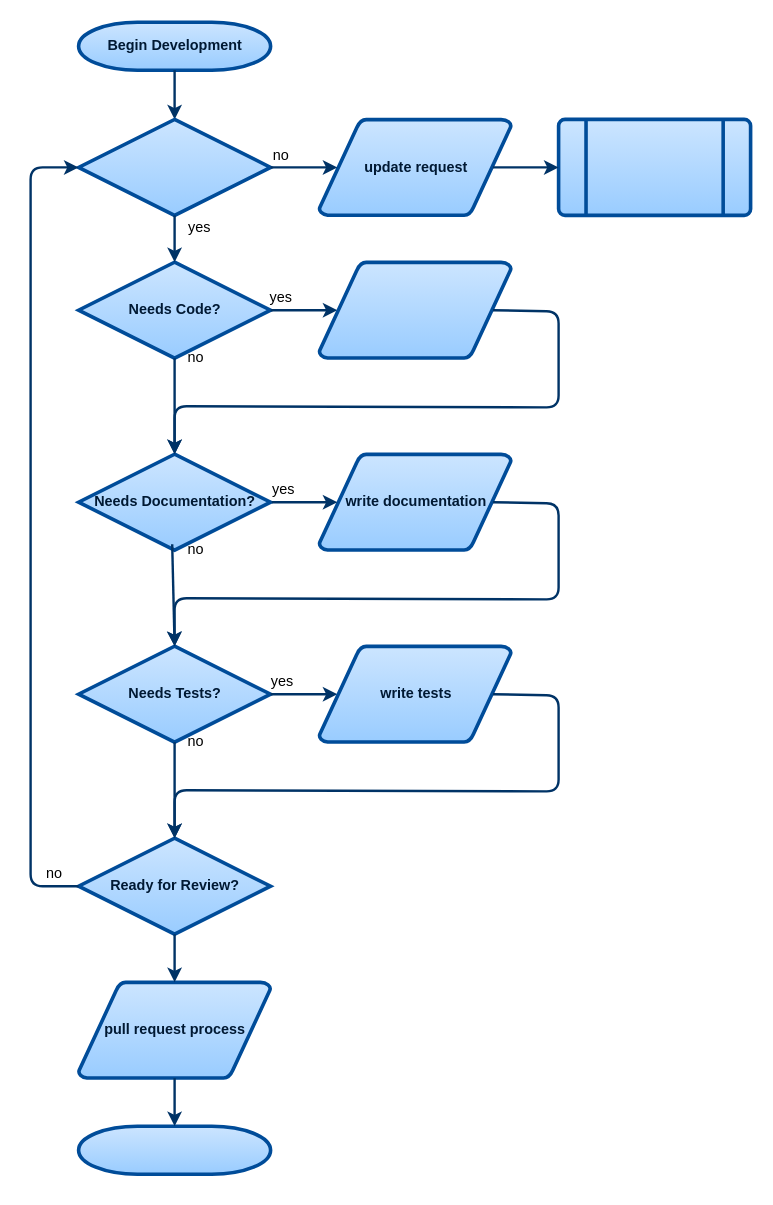
The diagram is 773 pixels wide and 1205 high, and some of its shapes have lost their labels. The box of each missing label's shape, as (x1, y1, x2, y2) in pixels:
Close Request: (76, 1124, 272, 1175)
Is this actionable?: (76, 117, 272, 217)
Remove actionable label: (556, 117, 752, 217)
write code: (317, 260, 512, 359)
